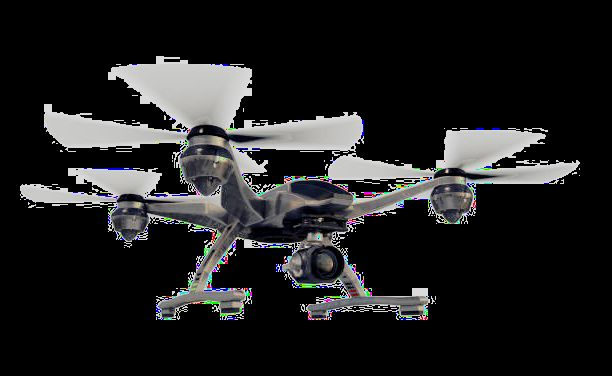Drone: (17, 61, 580, 327)
